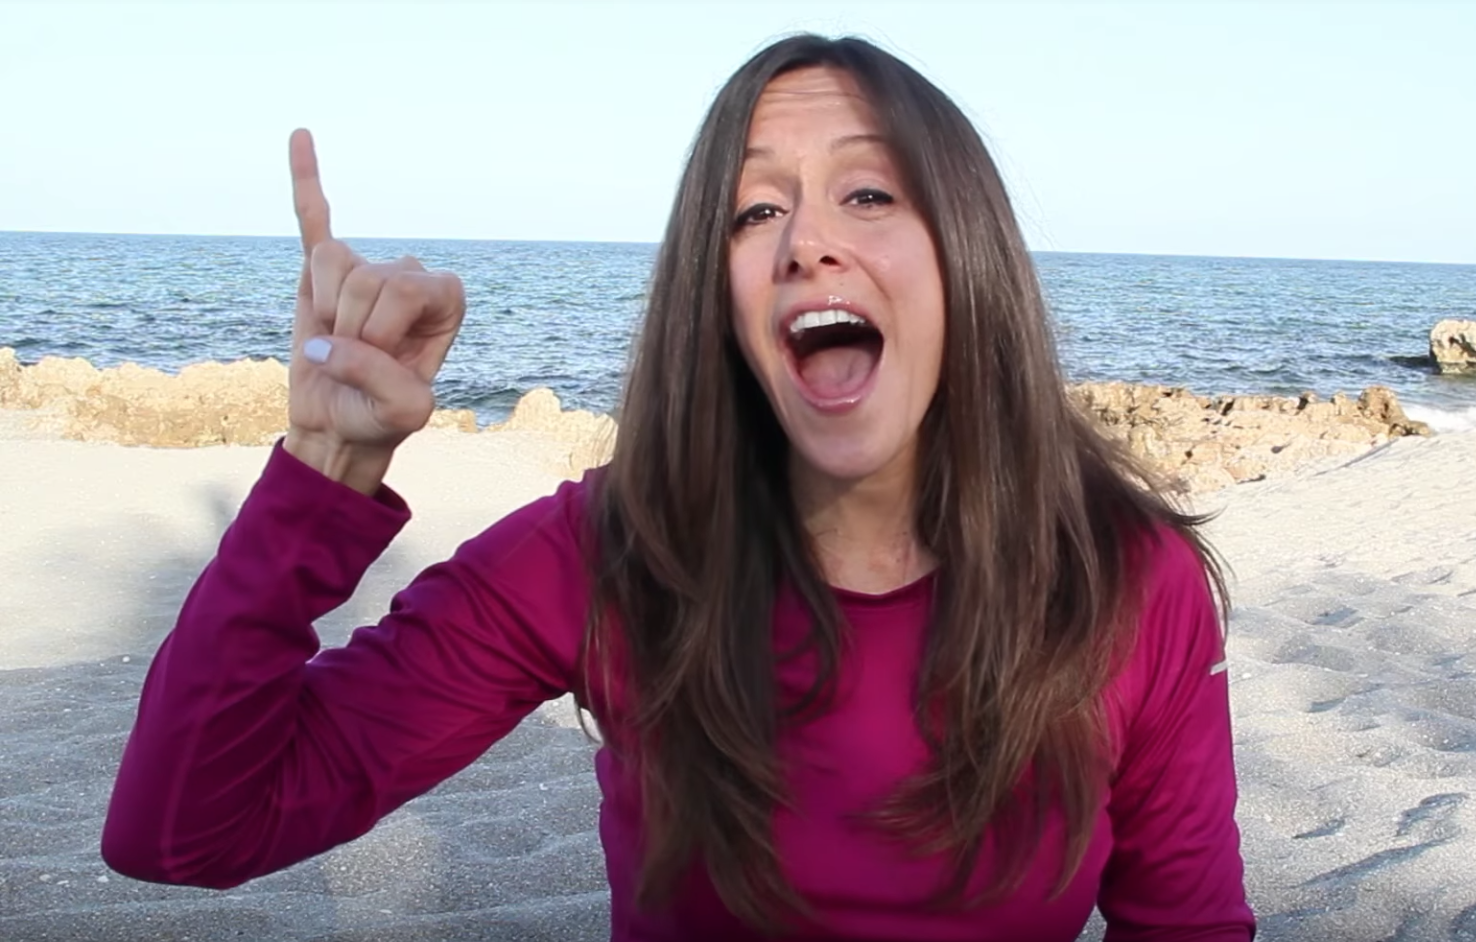i: (259, 119, 476, 482)
